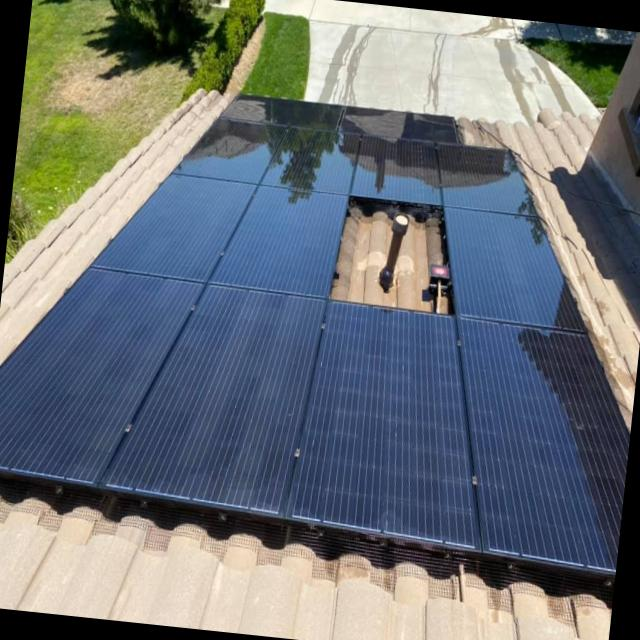no faulty: (0, 102, 622, 565)
